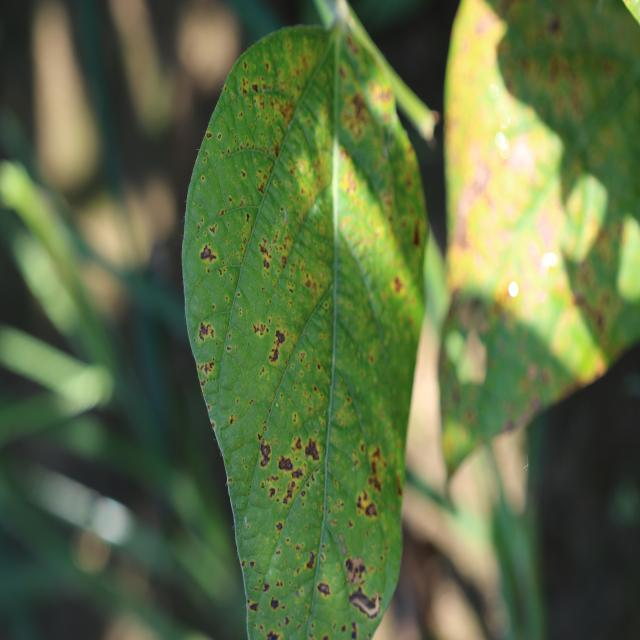Bacterial_Blight: (348, 586, 380, 617), (304, 430, 325, 470), (344, 555, 367, 585), (348, 91, 369, 122), (274, 98, 295, 128), (197, 359, 216, 379), (259, 440, 272, 467), (198, 321, 214, 342), (283, 480, 297, 504), (200, 244, 217, 263), (547, 14, 562, 35), (346, 35, 360, 57), (277, 455, 293, 472), (253, 322, 268, 337), (392, 276, 404, 294), (365, 502, 378, 518), (412, 224, 421, 247), (317, 582, 330, 597), (305, 552, 316, 569), (274, 329, 286, 344), (269, 347, 280, 363), (292, 436, 302, 452), (266, 629, 280, 640), (259, 242, 269, 257), (247, 599, 258, 612), (270, 596, 280, 610), (208, 222, 217, 235), (268, 487, 276, 499), (280, 255, 287, 268), (229, 414, 236, 425), (257, 431, 264, 442), (251, 83, 258, 93), (276, 521, 283, 531), (264, 62, 270, 72), (249, 560, 255, 569), (206, 131, 212, 139), (220, 209, 226, 217)
Soybean: (183, 0, 435, 640)
